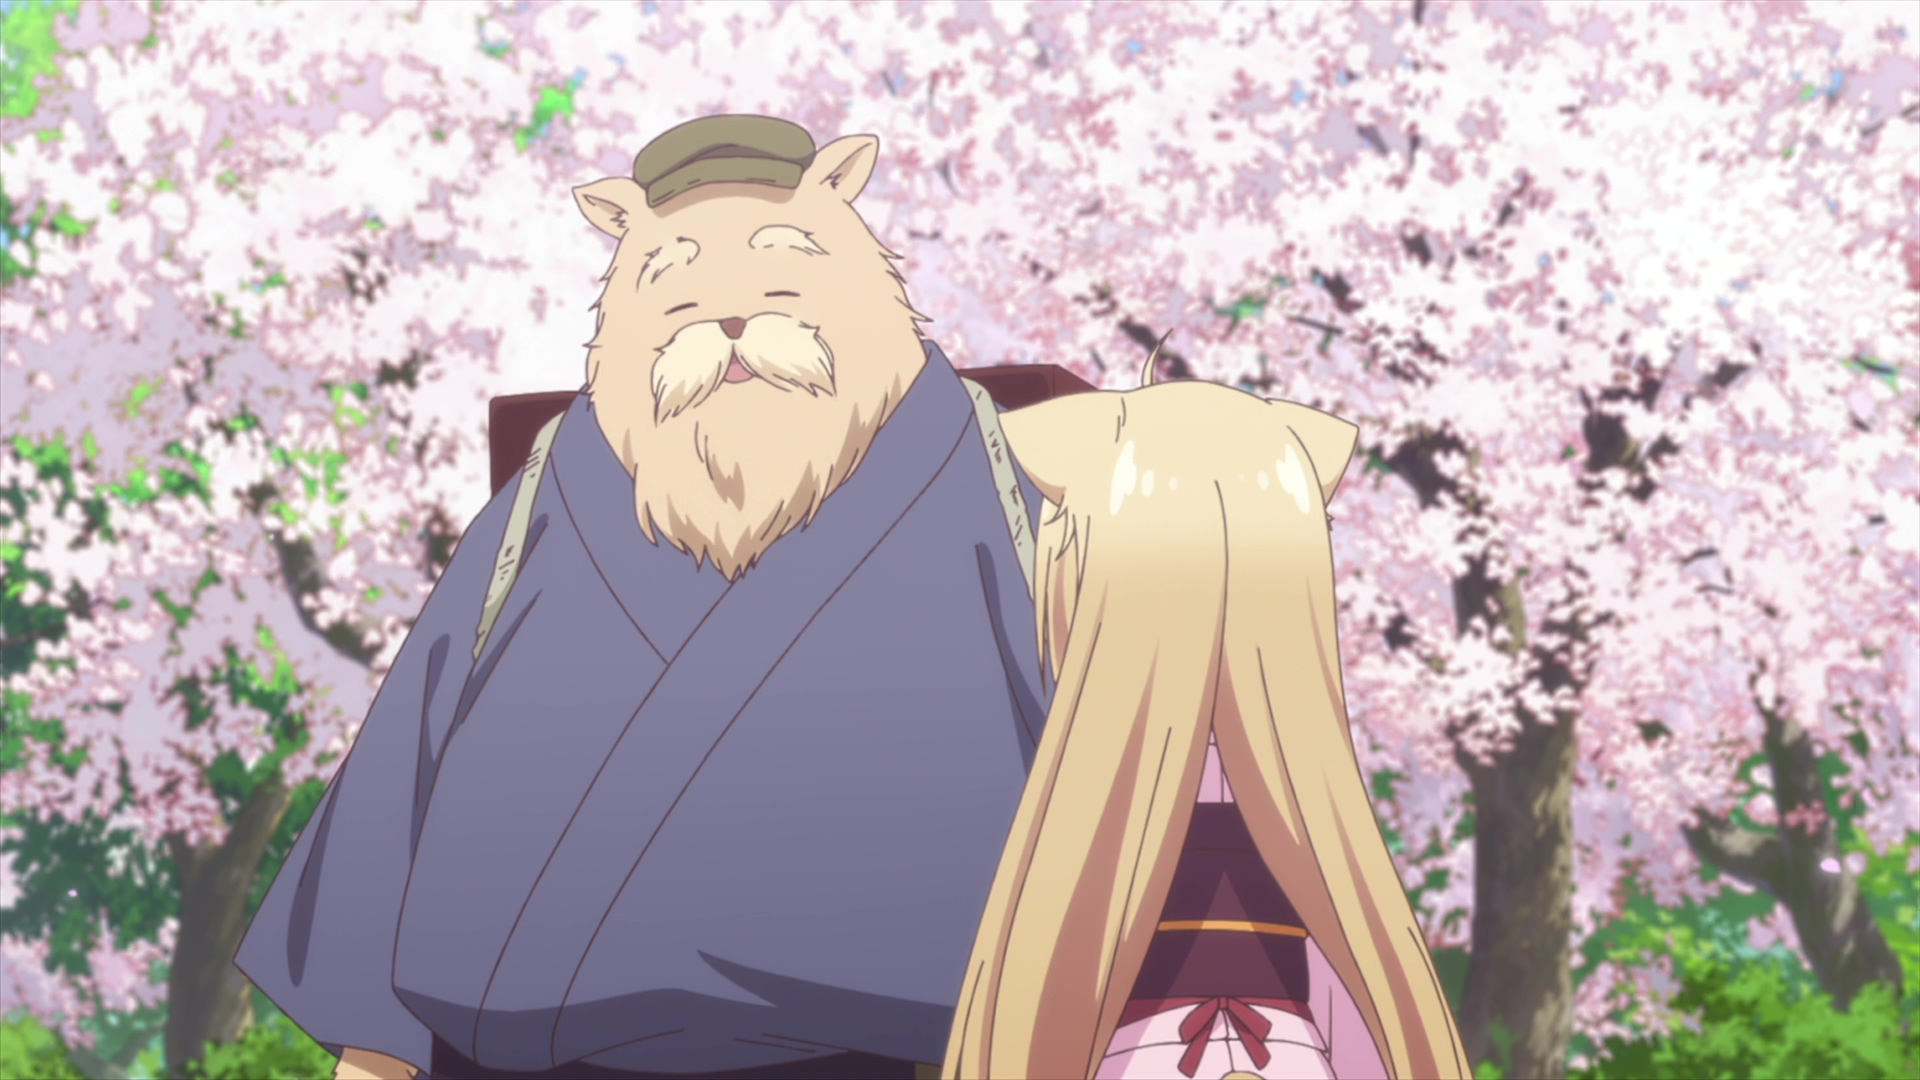柚: (942, 328, 1470, 1080)
药店老板: (237, 116, 1100, 1080)
